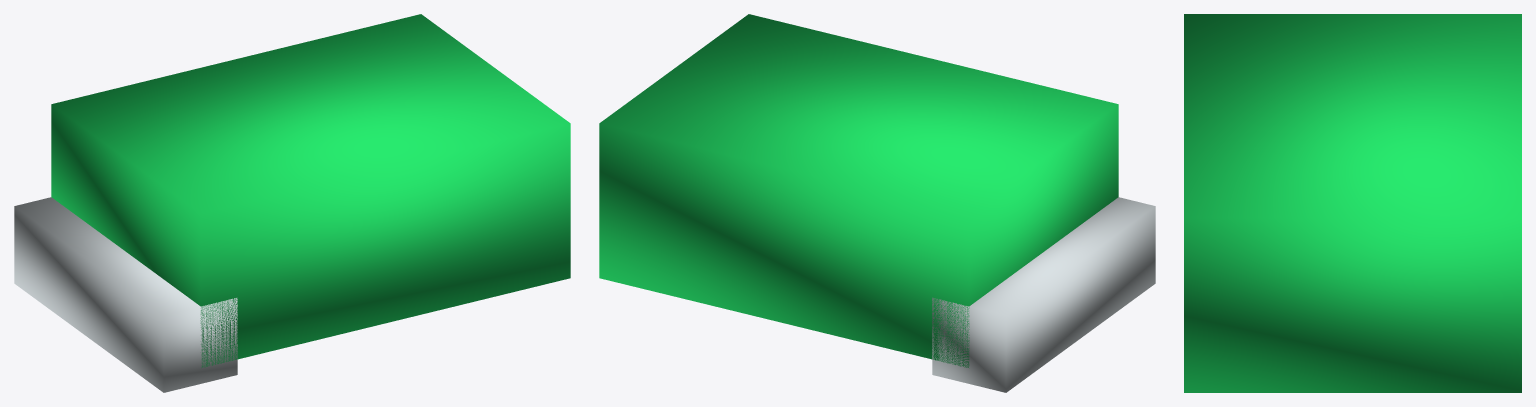
Rendered from 087_L105_LED4.fbx.
3 views of the same model, side by side, from view 1: azimuth 30°, elevation 25°; view 2: azimuth 150°, elevation 25°; view 3: azimuth 270°, elevation 25° (orthographic). The views are drawn at different scales.
Visible parts, largest first — view 1: L105_LED4_green, L105_LED4_tin; view 2: L105_LED4_green, L105_LED4_tin; view 3: L105_LED4_green.
Boxes of the visible parts, x1,y1,x2,y2 form: L105_LED4_green: (51, 14, 570, 367); L105_LED4_tin: (14, 197, 237, 392); L105_LED4_green: (599, 14, 1118, 367); L105_LED4_tin: (932, 197, 1155, 392); L105_LED4_green: (1184, 14, 1521, 392).
Size of the model in its own units: 0.0022 by 0.00088 by 0.0014.
